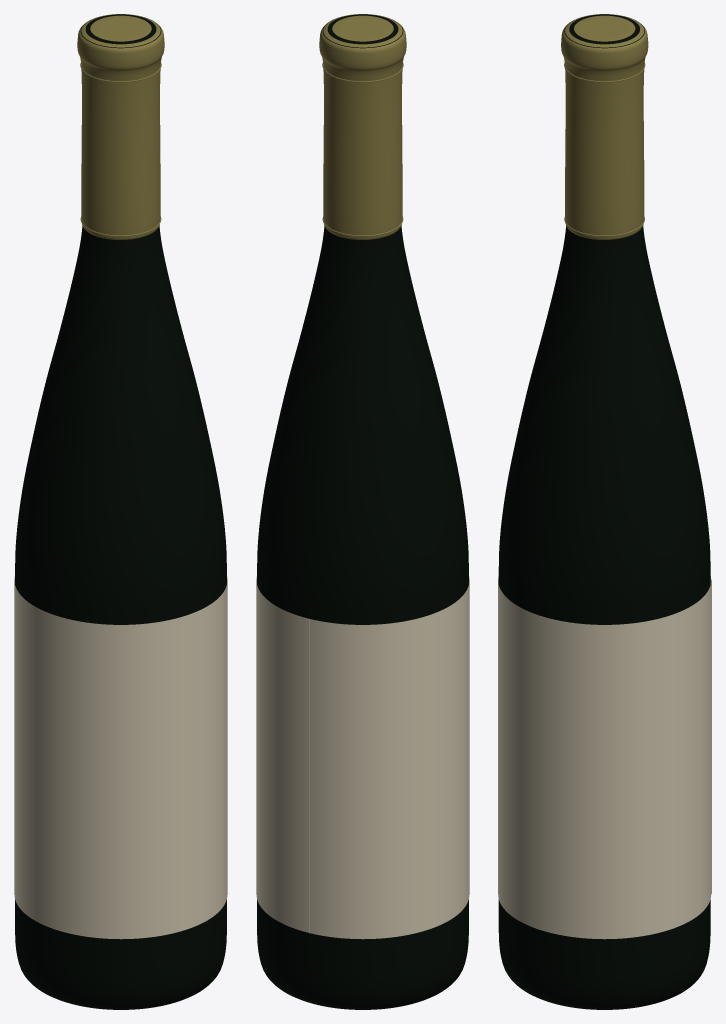
File: nocturne-half.glb
3 views of the same model, side by side, from view 1: azimuth 30°, elevation 25°; view 2: azimuth 150°, elevation 25°; view 3: azimuth 270°, elevation 25° (orthographic).
Parts seen in each view (by area): view 1: Dark green glass, Warm uncoated paper, full wrap, Rolled metallic capsule with curved lip; view 2: Dark green glass, Warm uncoated paper, full wrap, Rolled metallic capsule with curved lip, Nocturne Cabernet bottle; view 3: Dark green glass, Warm uncoated paper, full wrap, Rolled metallic capsule with curved lip, Nocturne Cabernet bottle.
Boxes of the visible parts, x1,y1,x2,y2 form: Dark green glass: (15, 14, 226, 1009); Warm uncoated paper, full wrap: (14, 576, 227, 939); Rolled metallic capsule with curved lip: (77, 14, 164, 239); Dark green glass: (257, 14, 468, 1009); Warm uncoated paper, full wrap: (256, 576, 469, 939); Rolled metallic capsule with curved lip: (319, 14, 406, 239); Nocturne Cabernet bottle: (309, 63, 403, 933); Dark green glass: (498, 14, 710, 1009); Warm uncoated paper, full wrap: (498, 576, 711, 939); Rolled metallic capsule with curved lip: (561, 14, 648, 239); Nocturne Cabernet bottle: (564, 62, 711, 893).
Bounding box in the file's own units: 0.5396 × 2.64 × 0.5411.
